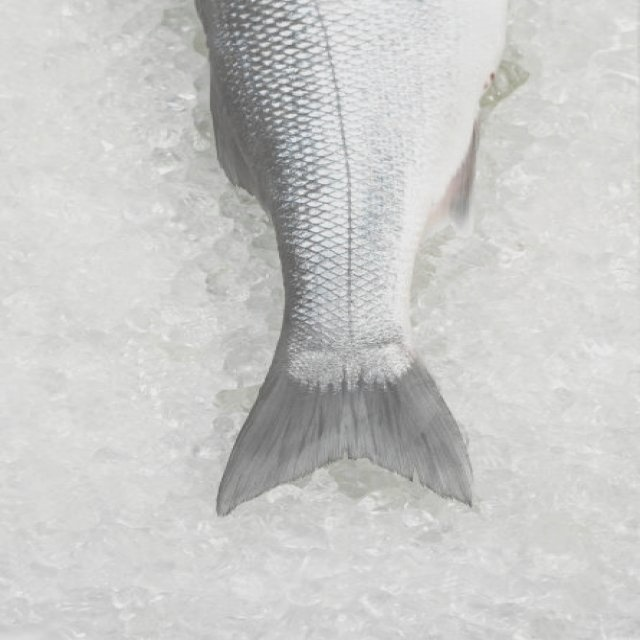Healthy Fish: (176, 3, 518, 533)
